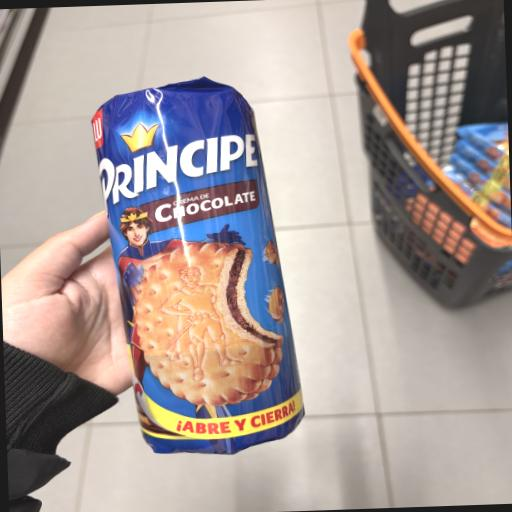prince: (8, 37, 402, 481)
